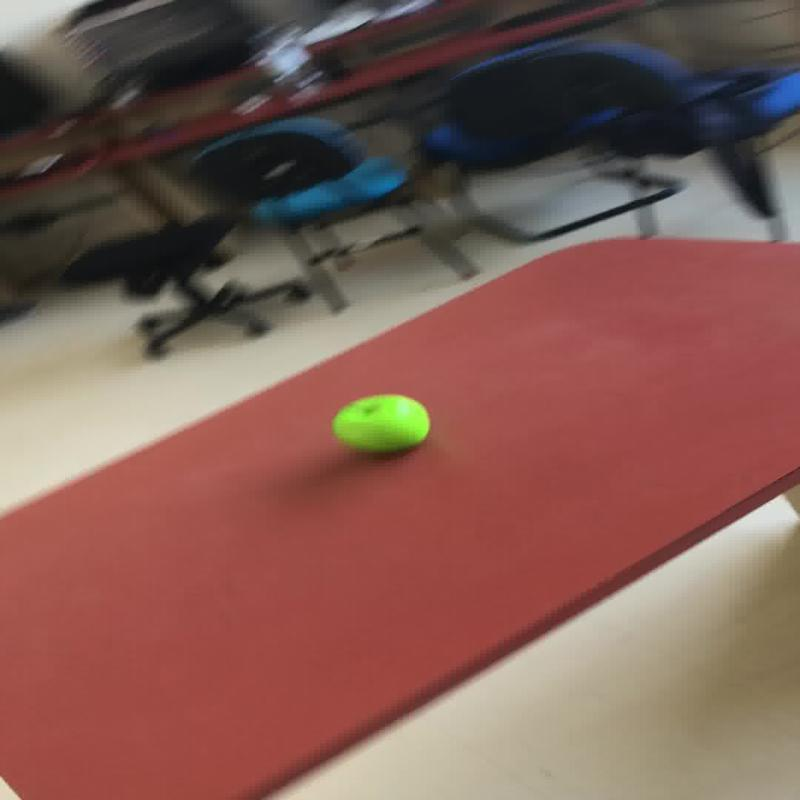apple: (330, 393, 430, 454)
